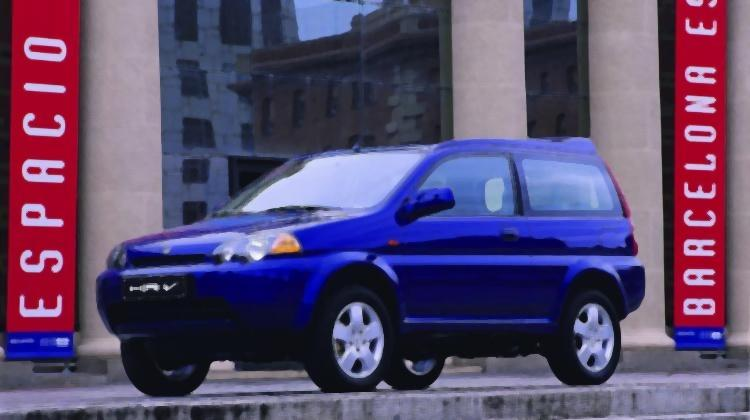Car hood: (123, 205, 376, 256)
Fender - -F-L-: (339, 202, 419, 350)
Front bumper: (85, 258, 336, 349)
Headlight - -L-: (207, 223, 311, 266)
Headlight - -R-: (95, 235, 140, 274)
Passenger-s door - -F-L-: (411, 139, 529, 332)
Rear bumper: (608, 259, 663, 348)
Rear light - -L-: (604, 164, 647, 259)
Side bumper - -L-: (395, 307, 560, 360)
Side mirror - -L-: (399, 184, 466, 230)
